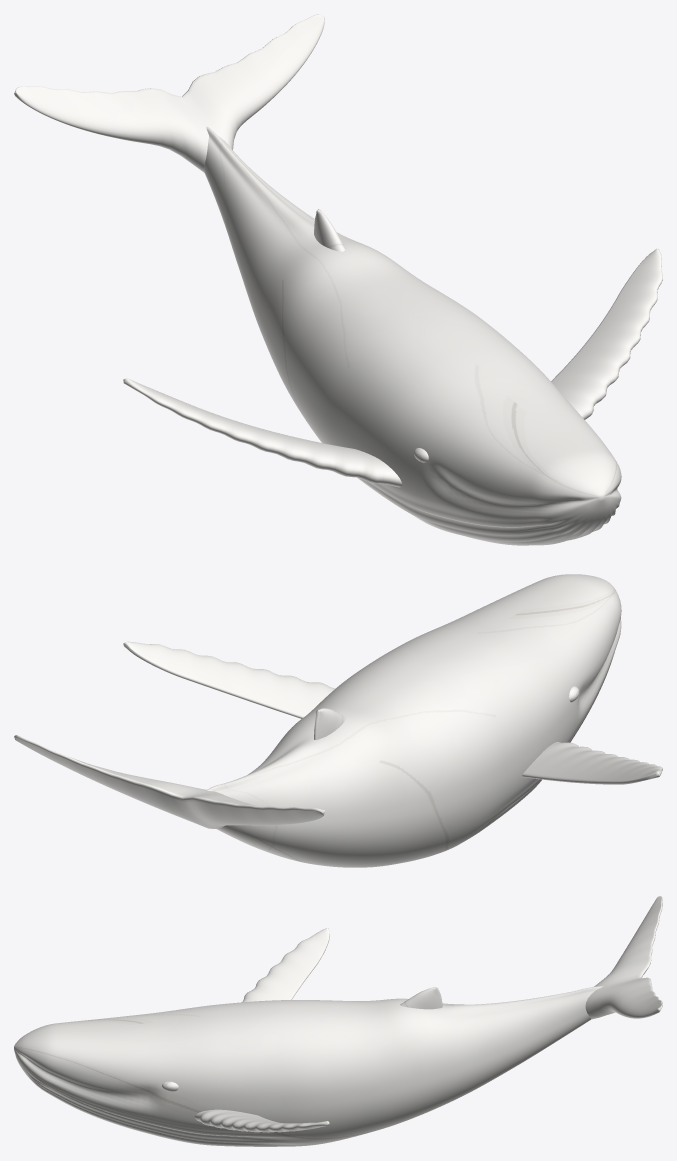
3 renders of one model, top to bottom at view 1: azimuth 30°, elevation 25°; view 2: azimuth 150°, elevation 25°; view 3: azimuth 270°, elevation 25°, orthographic. The views are drawn at different scales.
Visible parts, largest first — view 1: Mesh_statue_whale; view 2: Mesh_statue_whale; view 3: Mesh_statue_whale.
Part boxes in pixels (bbox=[...]): Mesh_statue_whale: bbox=[14, 14, 662, 545]; Mesh_statue_whale: bbox=[14, 574, 662, 867]; Mesh_statue_whale: bbox=[14, 896, 662, 1146].
Bounding box in the file's own units: 8.53 × 3.82 × 12.
1 material, 1 textured.
